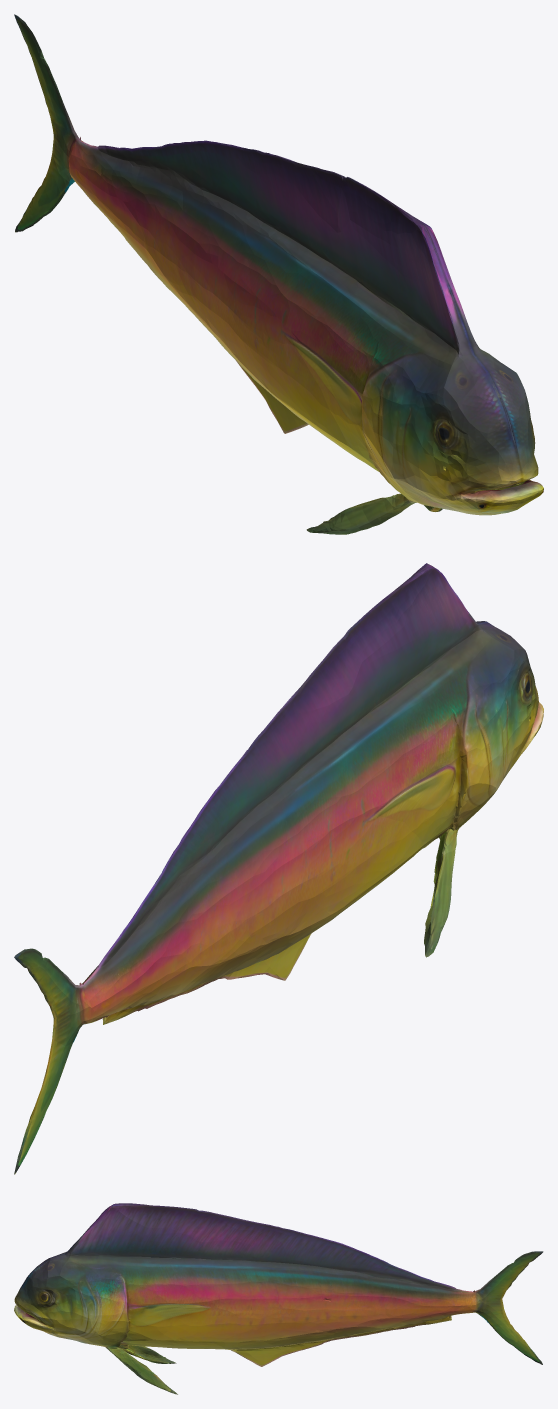
File: Mahi_Mahi_Illustratio_0612004515_texture.fbx
The picture shows the model from 3 angles, top to bottom: view 1: azimuth 30°, elevation 25°; view 2: azimuth 150°, elevation 25°; view 3: azimuth 270°, elevation 25°; orthographic projection. The views are drawn at different scales.
Parts seen in each view (by area): view 1: temp; view 2: temp; view 3: temp.
Part boxes in pixels (x1,y1,x2,y2): temp: [14, 14, 543, 534]; temp: [14, 563, 543, 1174]; temp: [14, 1203, 543, 1394].
Bounding box in the file's own units: 27.15 × 72.92 × 199.
1 material, 1 textured.
